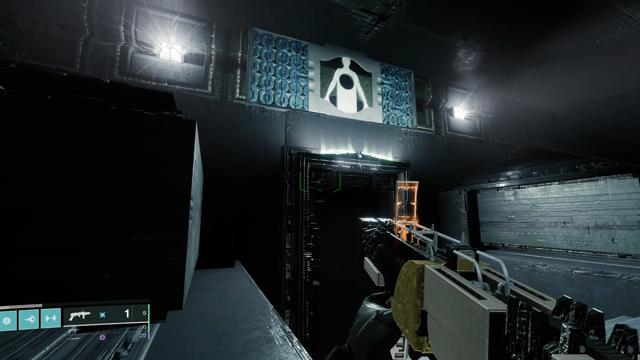grief: (320, 56, 373, 113)
